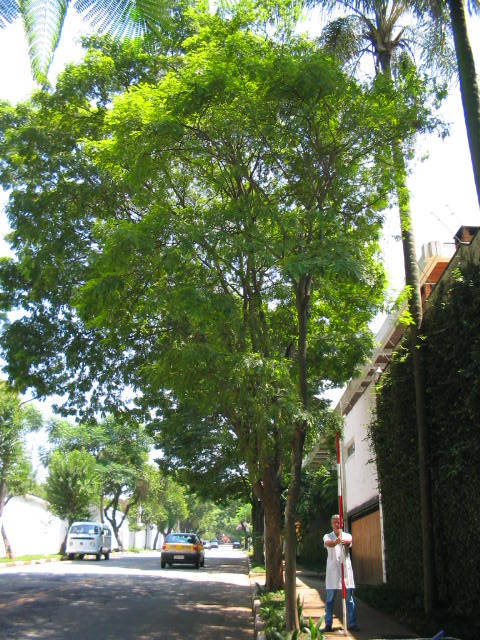crown: (78, 33, 450, 446)
stem: (282, 442, 316, 632), (255, 506, 286, 591)
stick: (331, 431, 350, 636)
tree: (77, 31, 454, 633)
